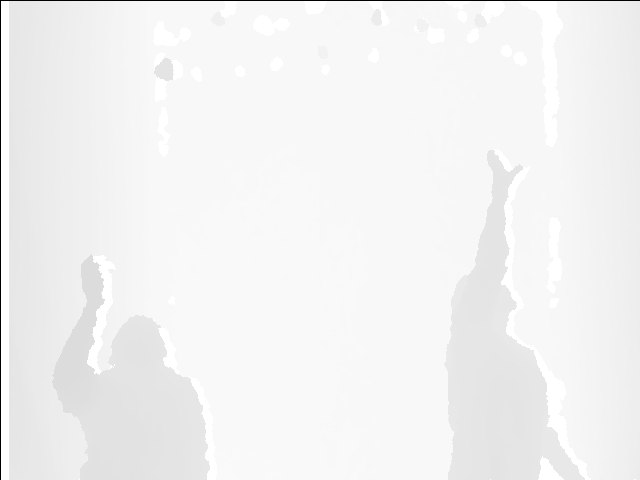hand: (480, 142, 524, 196), (80, 252, 109, 309)
